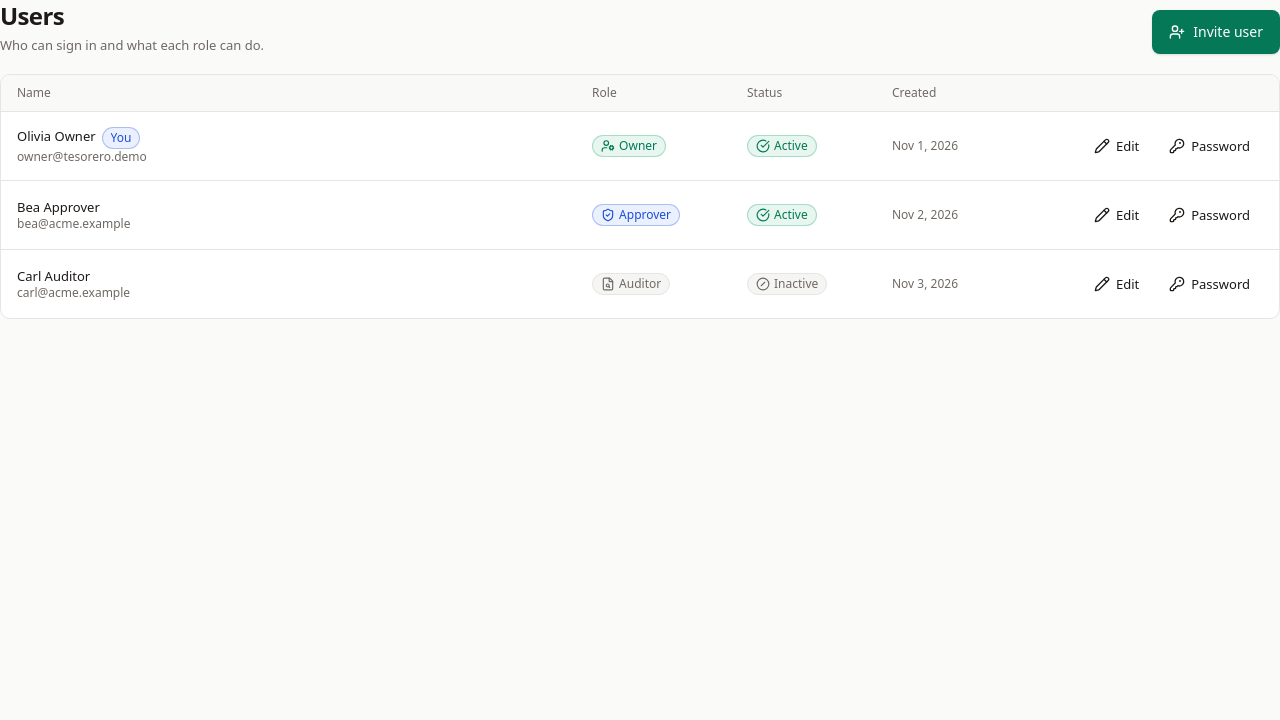
Test: users admin › keeps the dialog open and shows the server rule when the last Owner would be demoted (409)
Click the button with test id "edit-user-button" at (1117, 146), box [1081, 124, 1152, 168]
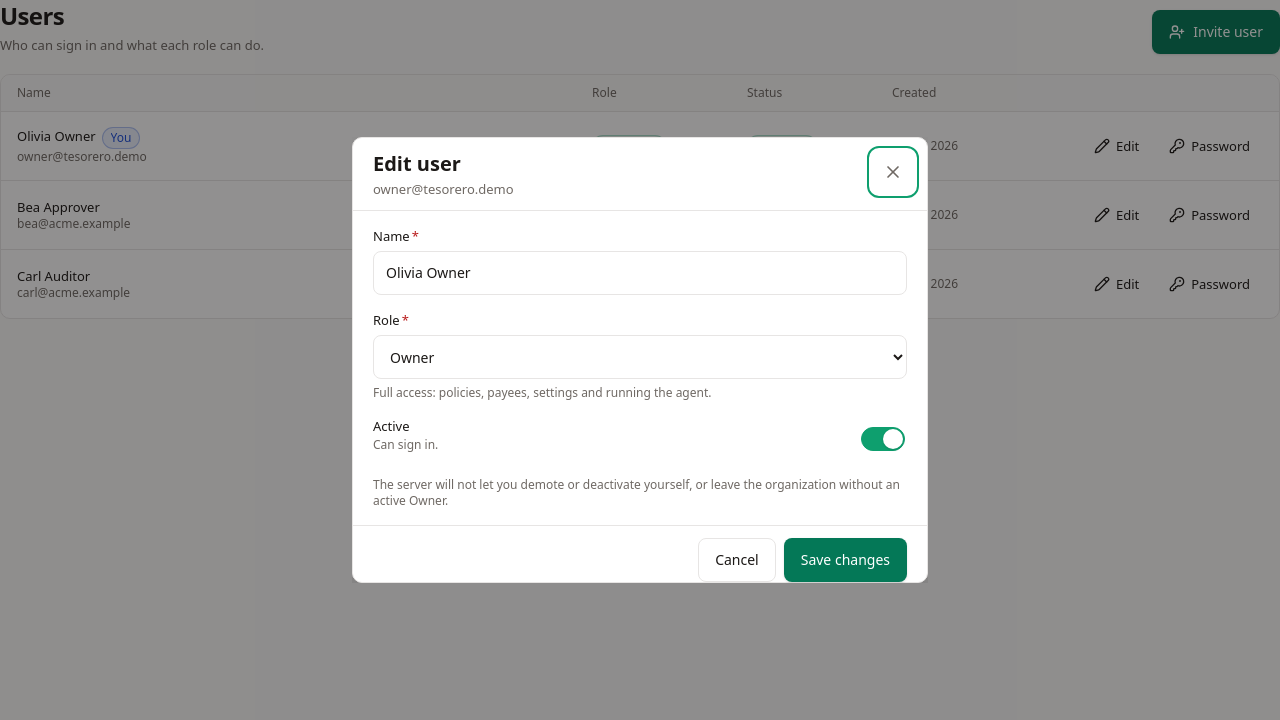
Select "Approver" in the dropdown with test id "user-role-select" at (640, 357), box [373, 335, 907, 379]
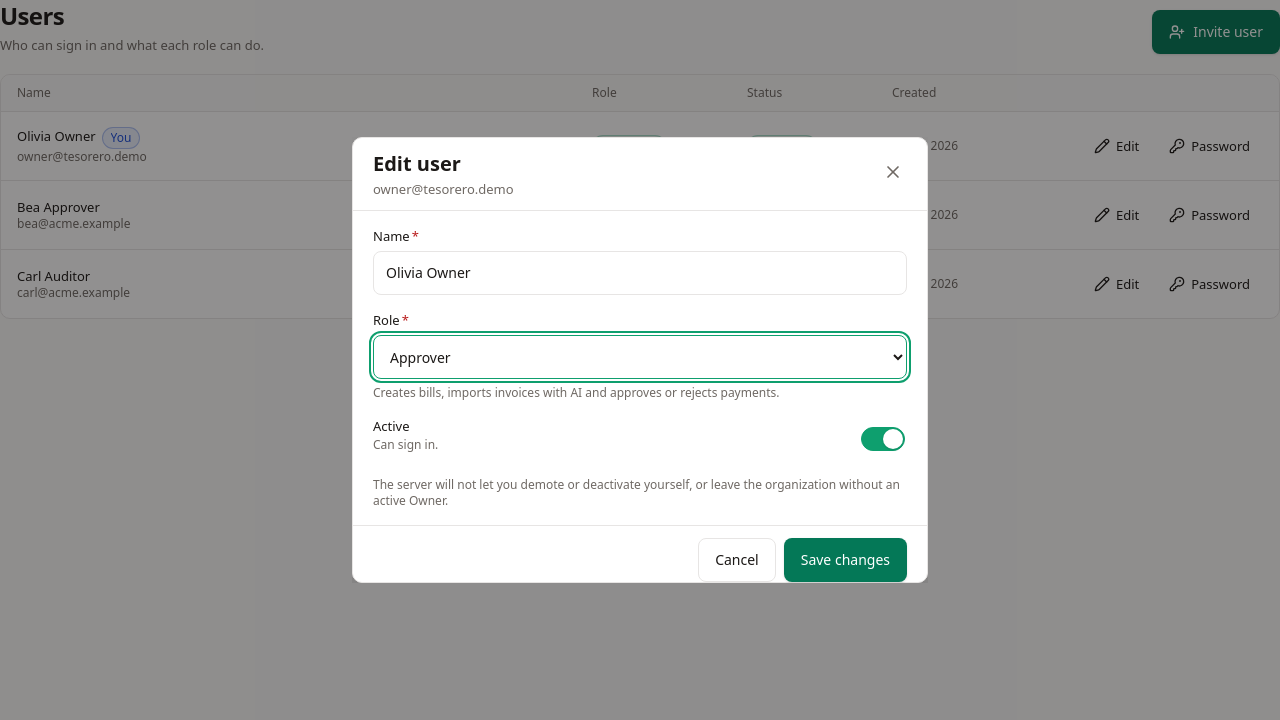
Click the button with test id "user-form-submit" at (845, 560), box [784, 538, 907, 582]
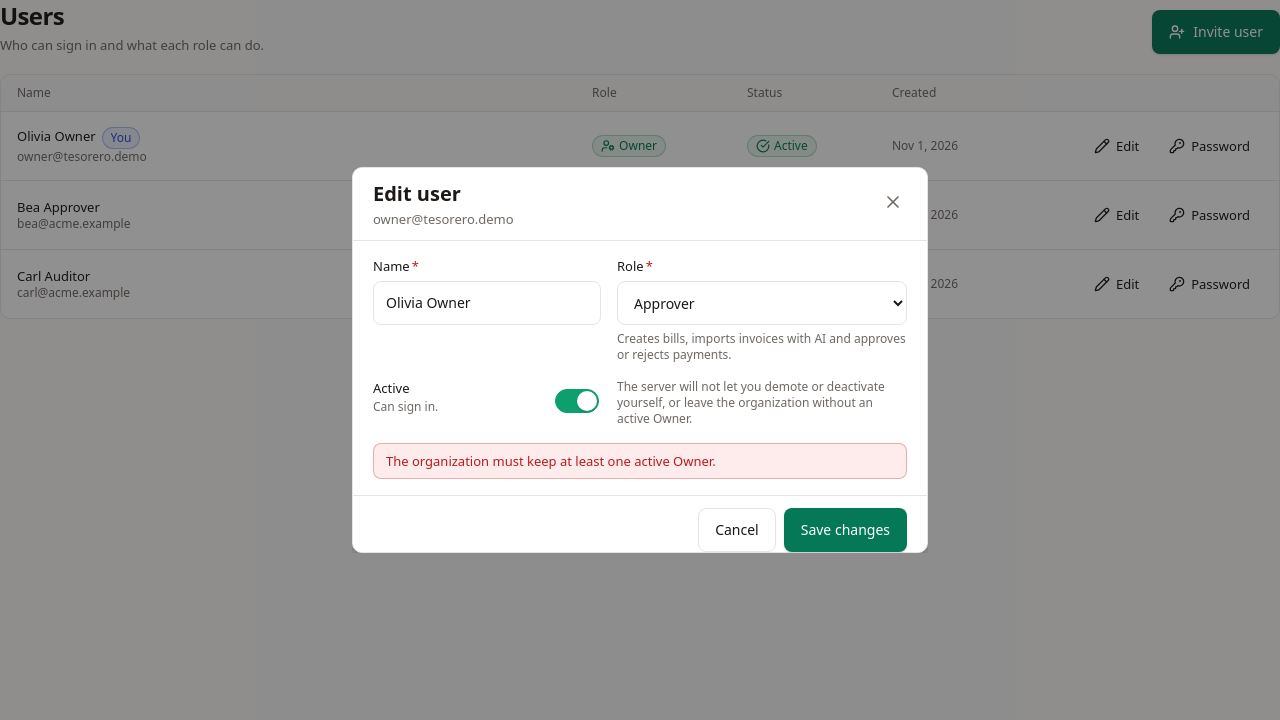
Result: the dialog with test id "edit-user-dialog" is shown at [352, 167, 928, 553]
Result: the message with test id "user-form-error" reads "The organization must keep at least one active Owner." at [386, 452, 716, 470]
